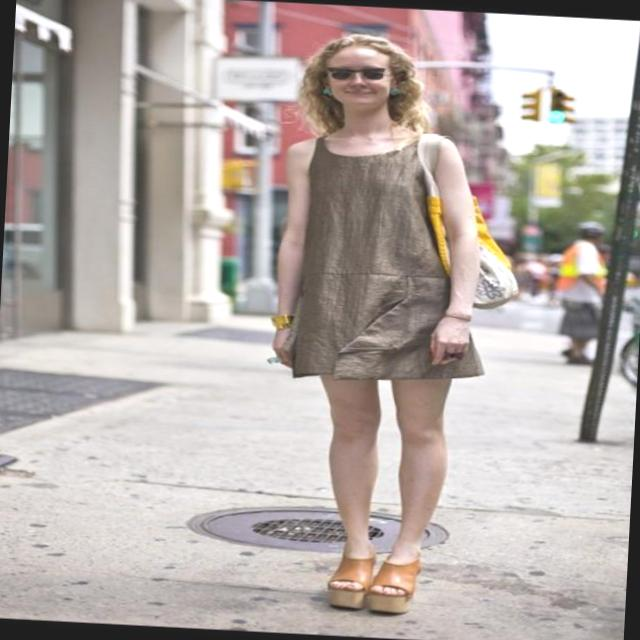dress: (286, 124, 499, 390)
